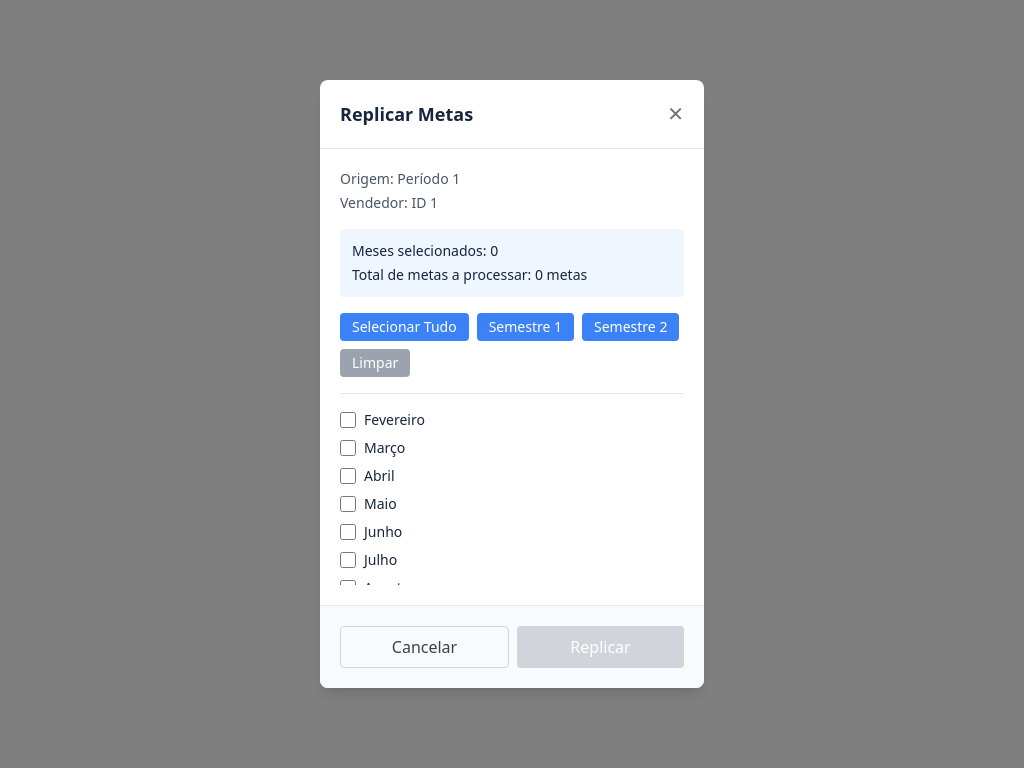
Scenario: ReplicarMetasModal › seleciona todos os meses ao clicar Selecionar Tudo
Click the button "Selecionar Tudo": (404, 327) [340,313,469,341]
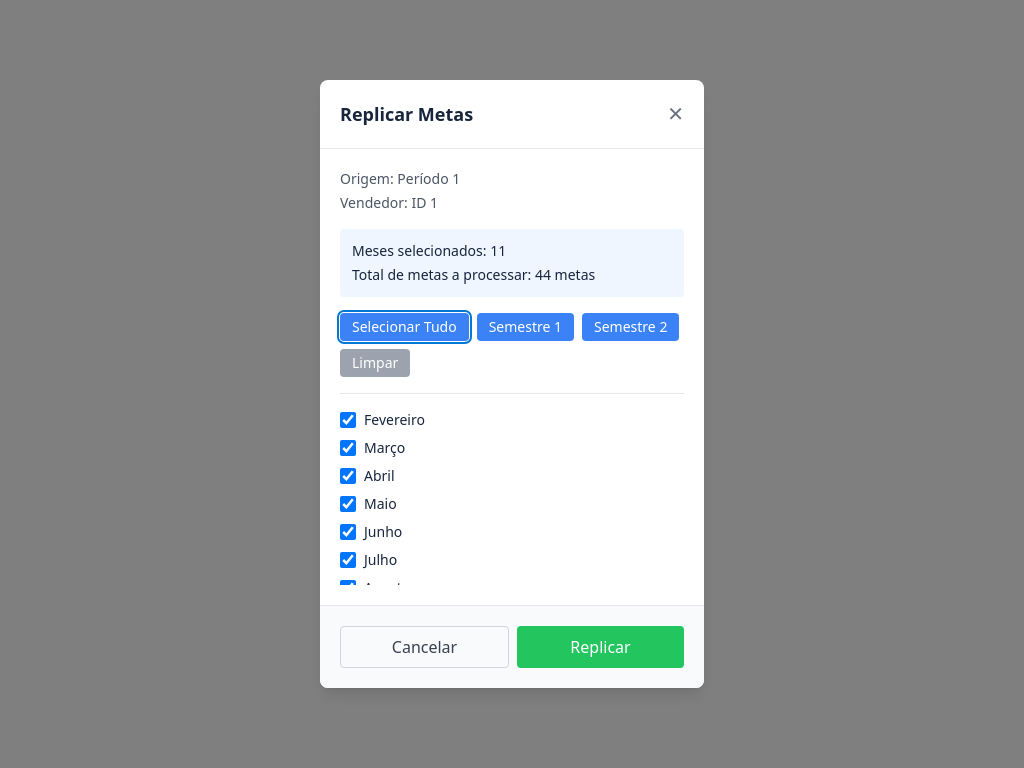
Now the checkbox labelled "Fevereiro" is checked, box [340,412,356,428]
Now the checkbox labelled "Março" is checked, box [340,440,356,456]
Now the checkbox labelled "Abril" is checked, box [340,468,356,484]
